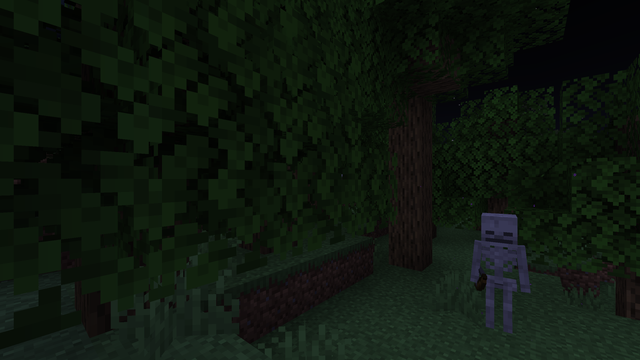squelettes: (476, 212, 521, 343)
